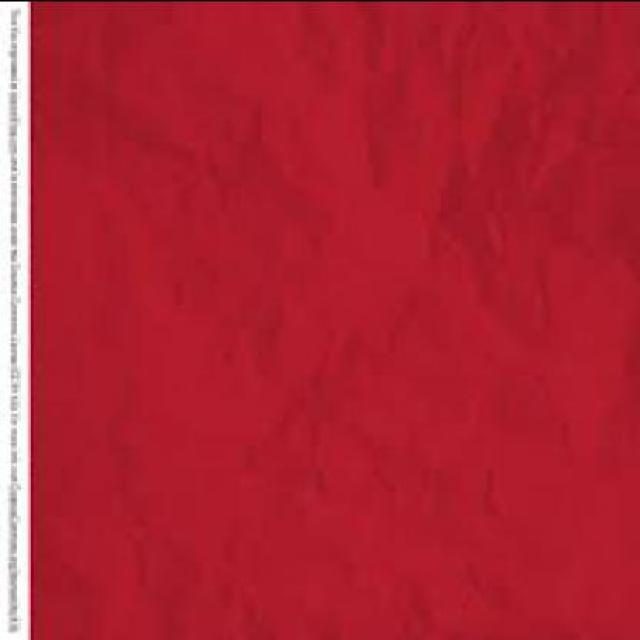PAPER: (36, 1, 638, 638)
